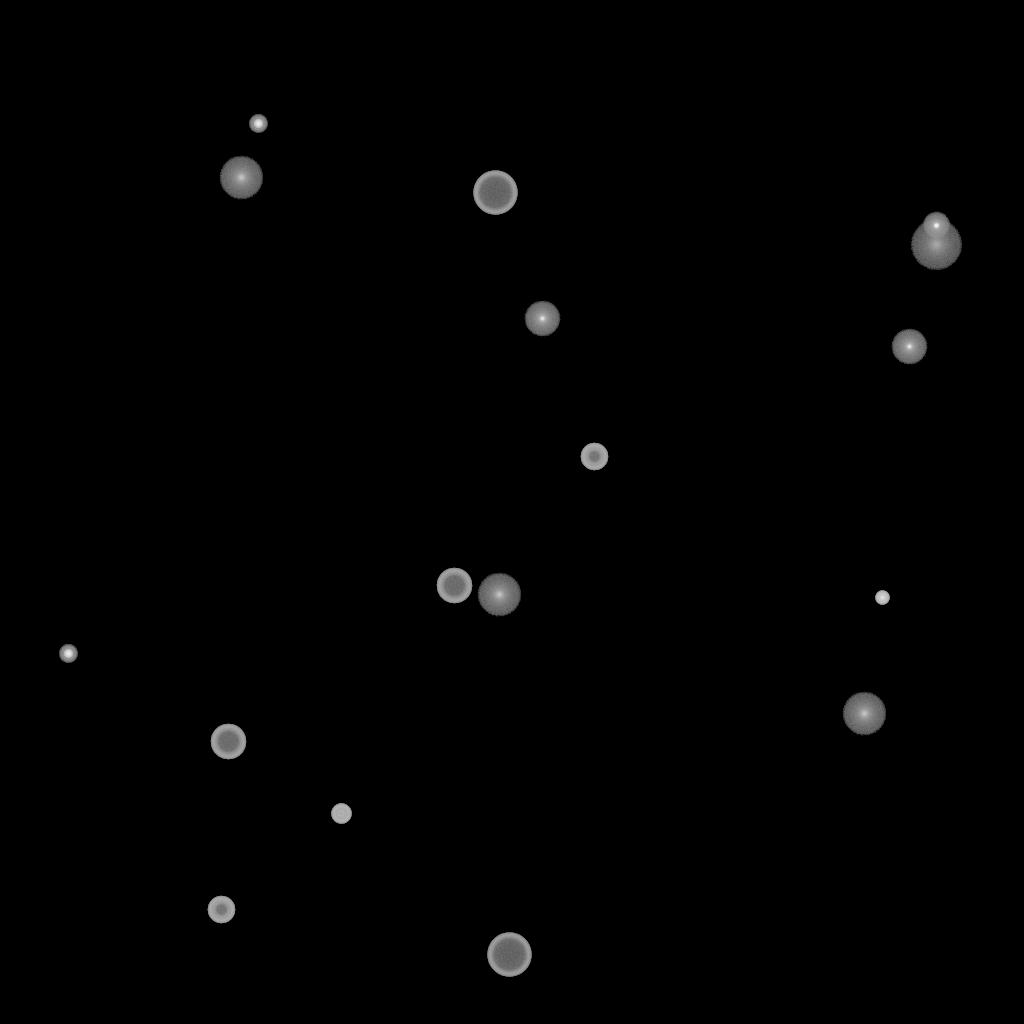depth:-10: (922, 212, 950, 240)
depth:-20: (59, 645, 77, 663), (249, 115, 267, 133)
depth:-30: (875, 591, 889, 605)
depth:-40: (331, 804, 351, 824)
depth:-50: (580, 443, 608, 471), (207, 896, 235, 924)
depth:-60: (436, 568, 472, 604), (210, 724, 246, 760)
depth:-70: (487, 933, 531, 977), (473, 171, 517, 215)
depth:0: (524, 301, 560, 337), (891, 329, 927, 365)
depth:10: (477, 573, 521, 617), (219, 156, 263, 200), (842, 692, 886, 736)
depth:20: (910, 220, 962, 270)
